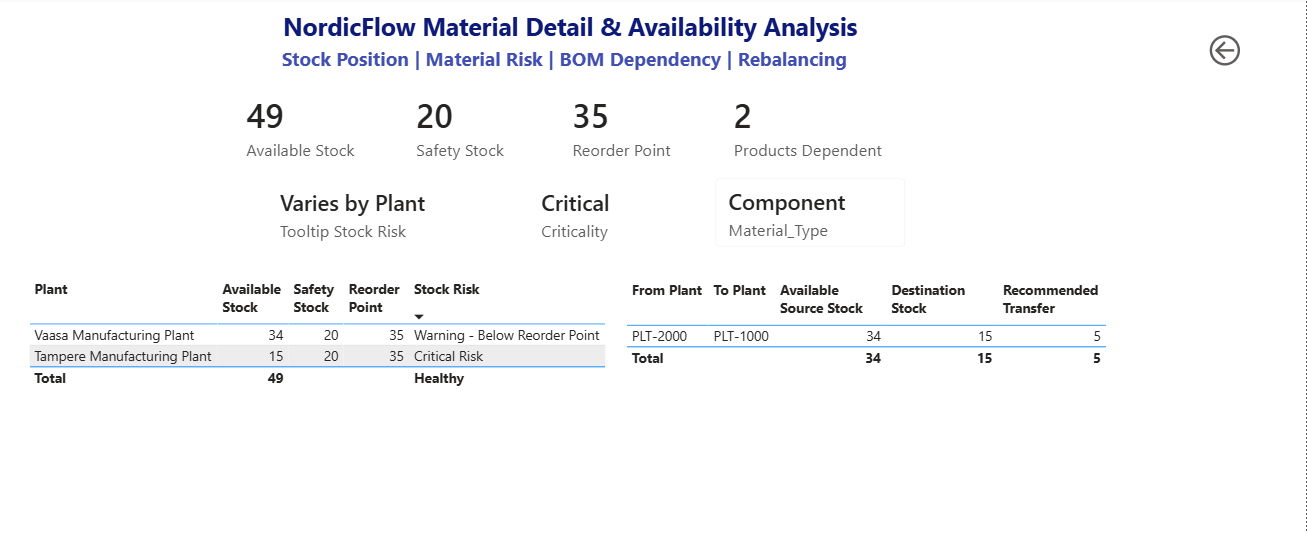

What the dashboard file says about the page in this screenshot:
{"tool":"powerbi","page":{"name":"Mateial Details","canvas":[1280,720],"ordinal":16},"visuals":[{"type":"textbox","box":[274.2,8.8,670.1,48.9],"z":1000},{"type":"textbox","box":[272.9,44.3,745.9,39.1],"z":2000},{"type":"cardVisual","fields":{"Data":["_Measures.Component Latest Stock"]},"box":[229.9,81.9,133.3,91.7],"z":3000},{"type":"cardVisual","fields":{"Data":["Max(Dim_material.Safety_Stock_Qty)"]},"box":[385.2,81.9,134.5,91.7],"z":4000},{"type":"cardVisual","fields":{"Data":["Max(Dim_material.Reorder_Point_Qty)"]},"box":[538,81.9,157.7,91.7],"z":5000},{"type":"cardVisual","fields":{"Data":["_Measures.Products Dependent on Component"]},"box":[695.8,81.9,199.3,91.7],"z":6000},{"type":"cardVisual","fields":{"Data":["_Measures.Tooltip Stock Risk"]},"box":[251.7,167.3,200.5,91.7],"z":7000},{"type":"cardVisual","fields":{"Data":["Min(Dim_material.Criticality)"]},"box":[507.2,167.3,200.5,91.7],"z":8000},{"type":"cardVisual","fields":{"Data":["Min(Dim_material.Material_Type)"]},"box":[689.4,166.1,210.3,91.7],"z":9000},{"type":"tableEx","fields":{"Values":["Dim_plant.Plant_Name","_Measures.Component Latest Stock","Dim_material.Safety_Stock_Qty","Dim_material.Reorder_Point_Qty","_Measures.Stock Risk Status"]},"box":[24.5,270.7,584.5,201.8],"z":10000},{"type":"tableEx","fields":{"Values":["Analytics_Interplant_Transfer.Plant_ID_Source","Analytics_Interplant_Transfer.Plant_ID_Shortage","Sum(Analytics_Interplant_Transfer.Unrestricted_Qty_Source)","Sum(Analytics_Interplant_Transfer.Unrestricted_Qty_Shortage)","Sum(Analytics_Interplant_Transfer.Indicative_Transfer_Qty)"]},"box":[609,272,489.1,138.2],"z":11000},{"type":"actionButton","box":[1179.8,33.4,100.2,40.3],"z":11001}]}

Visuals, with their boxes on the page's 1280x720 design canvas (x1, y1, x2, y2). These are canvas units, not pixel positions in the 1307x533 screenshot, which may show the page scaled, cropped or inside an application window:
textbox: 274, 9, 944, 58
textbox: 273, 44, 1019, 83
cardVisual - _Measures.Component Latest Stock: 230, 82, 363, 174
cardVisual - Max(Dim_material.Safety_Stock_Qty): 385, 82, 520, 174
cardVisual - Max(Dim_material.Reorder_Point_Qty): 538, 82, 696, 174
cardVisual - _Measures.Products Dependent on Component: 696, 82, 895, 174
cardVisual - _Measures.Tooltip Stock Risk: 252, 167, 452, 259
cardVisual - Min(Dim_material.Criticality): 507, 167, 708, 259
cardVisual - Min(Dim_material.Material_Type): 689, 166, 900, 258
tableEx - Dim_plant.Plant_Name x _Measures.Component Latest Stock: 24, 271, 609, 472
tableEx - Analytics_Interplant_Transfer.Plant_ID_Source x Analytics_Interplant_Transfer.Plant_ID_Shortage: 609, 272, 1098, 410
actionButton: 1180, 33, 1280, 74
